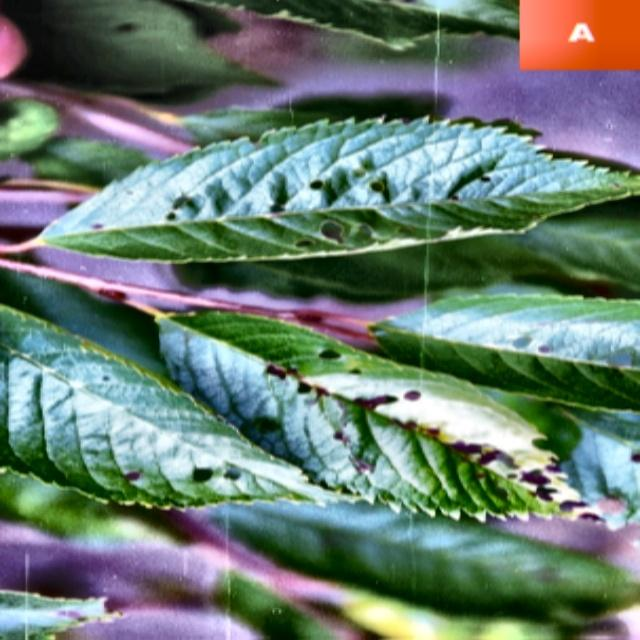shot_hole: (1, 113, 607, 548)
